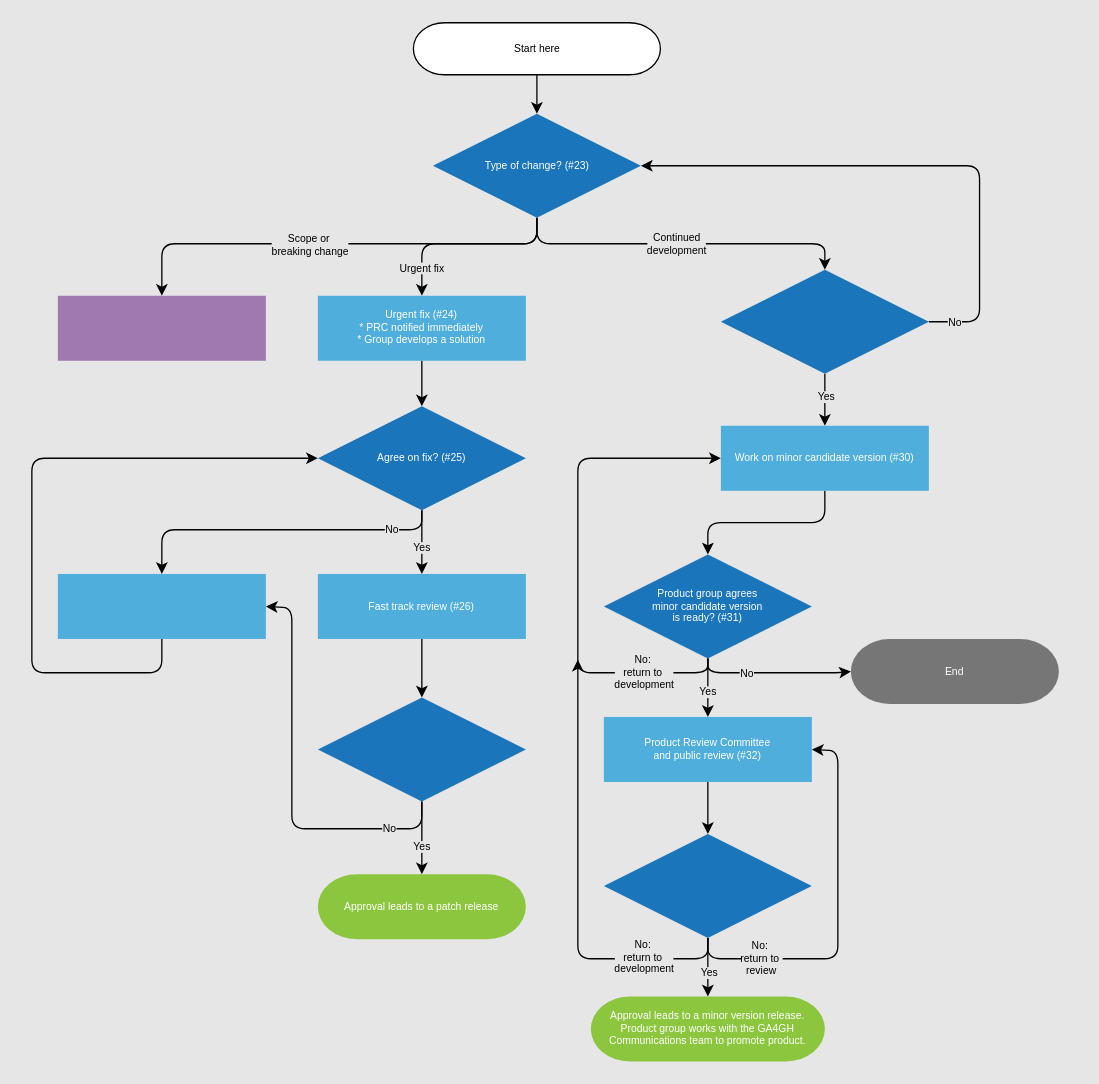
The diagram is 1099 pixels wide and 1084 high, and some of its shapes have lost their labels. Here are the shapes that lost their labels. From the top down, the centre of each, then its label:
point 161,327: Proceed to STUDY
point 824,321: Track approved? (#29)
point 161,605: Resolving remaining issues (#28)
point 421,749: Approved by PRC? (#27)
point 707,885: Approved by Product Review Committee? (#33)
